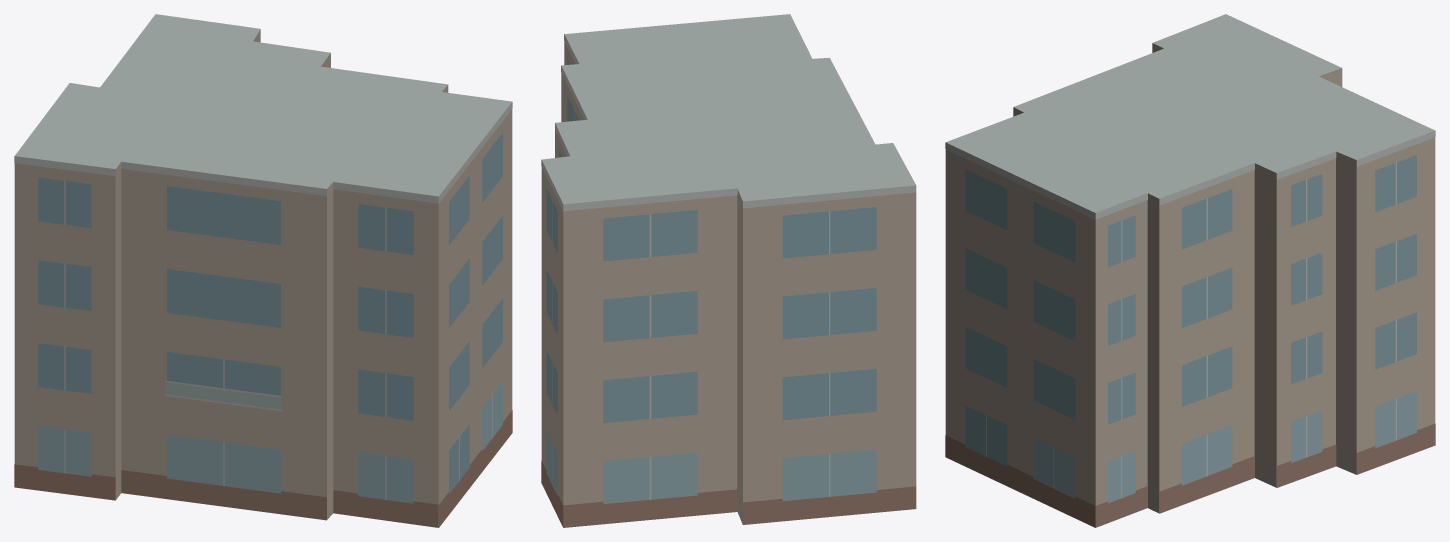
File: survey-upis-32530803.glb
The picture shows the model from 3 angles, left to right: view 1: azimuth 30°, elevation 25°; view 2: azimuth 150°, elevation 25°; view 3: azimuth 270°, elevation 25°; orthographic projection. The views are drawn at different scales.
Visible parts, largest first — view 1: survey-upis-32530803.tmp; view 2: survey-upis-32530803.tmp; view 3: survey-upis-32530803.tmp.
Boxes of the visible parts, x1,y1,x2,y2 form: survey-upis-32530803.tmp: (14, 14, 512, 527); survey-upis-32530803.tmp: (541, 14, 916, 527); survey-upis-32530803.tmp: (945, 14, 1435, 527).
Size of the model in its own units: 15.33 by 11.3 by 15.95.
